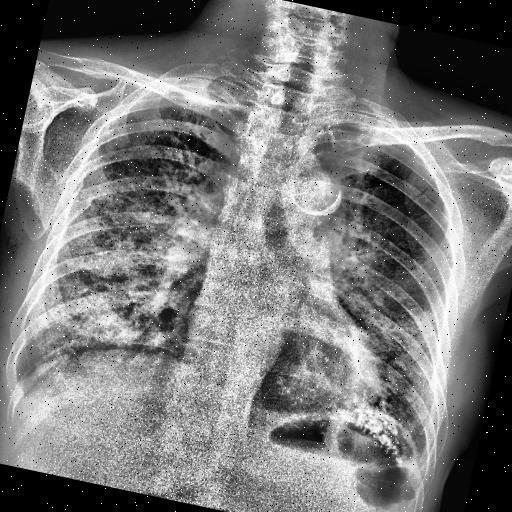0- Aortic enlargement: (270, 159, 347, 230), (278, 164, 346, 220)
11- Pleural thickening: (150, 76, 248, 118), (336, 110, 420, 152), (164, 77, 238, 114)
4- Consolidation: (4, 104, 238, 404), (23, 100, 240, 394), (258, 206, 470, 452), (277, 194, 475, 440)
7- Lung Opacity: (4, 104, 238, 404), (23, 100, 240, 394), (258, 206, 470, 452), (277, 194, 475, 440)
9- Other lesion: (324, 397, 424, 471)
